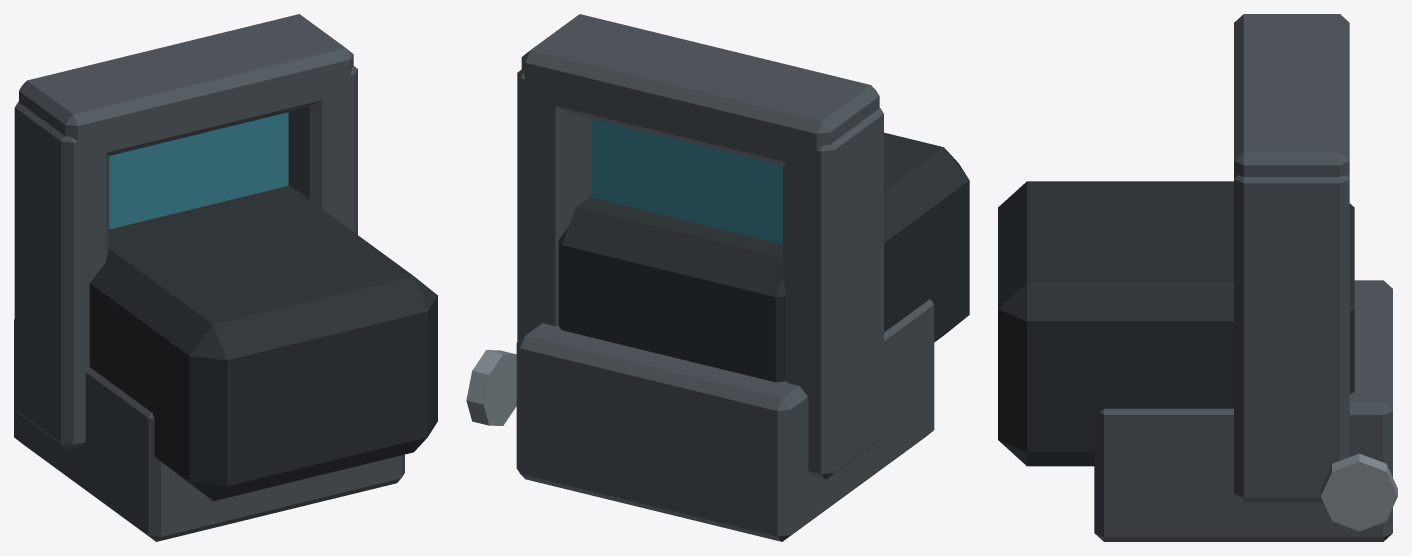
The model's file is att_optic_micro_dot.glb.
3 views of the same model, side by side, from view 1: azimuth 30°, elevation 25°; view 2: azimuth 150°, elevation 25°; view 3: azimuth 270°, elevation 25° (orthographic). The views are drawn at different scales.
Visible parts, largest first — view 1: Geometry_att_optic_micro_dot; view 2: Geometry_att_optic_micro_dot; view 3: Geometry_att_optic_micro_dot.
Part boxes in pixels (x1=…): Geometry_att_optic_micro_dot: x1=14, y1=14, x2=437, y2=541; Geometry_att_optic_micro_dot: x1=466, y1=14, x2=969, y2=541; Geometry_att_optic_micro_dot: x1=998, y1=14, x2=1397, y2=541.
Bounding box in the file's own units: 0.0395 × 0.0456 × 0.0415.
